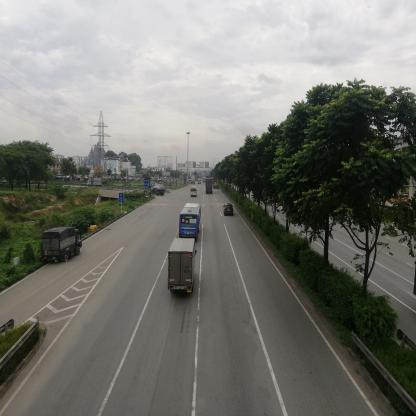bus: (181, 205, 202, 235)
car: (225, 203, 234, 217), (192, 189, 198, 194)
container: (206, 179, 213, 192)
truck: (169, 238, 198, 293), (43, 225, 83, 263), (153, 184, 167, 196), (89, 179, 105, 187)
